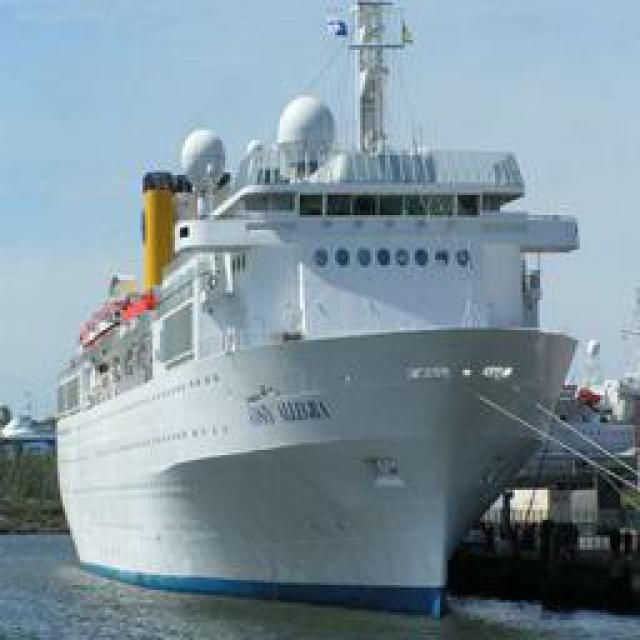Ship: (55, 36, 610, 606)
